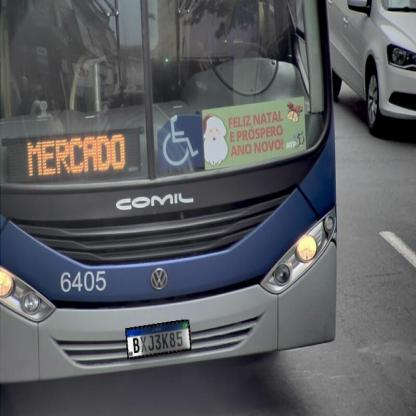PlacaM: (126, 320, 192, 359)
